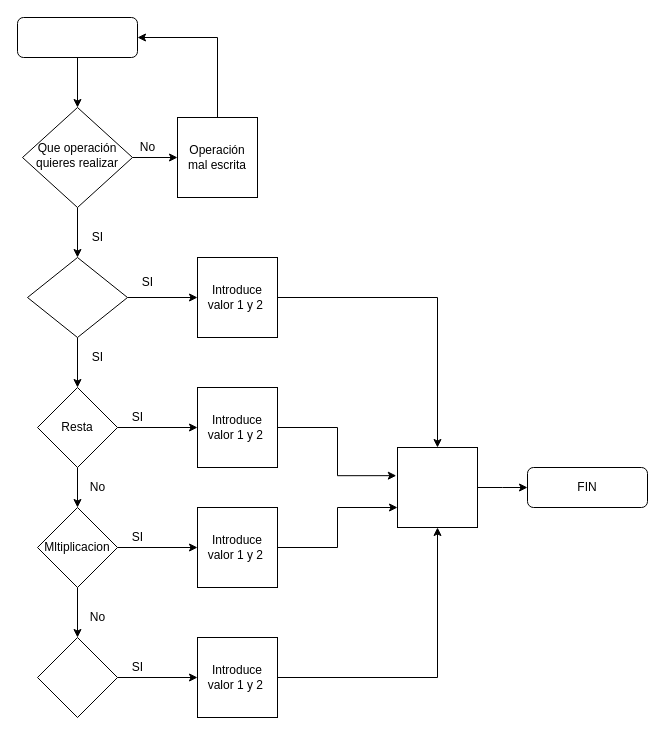
The diagram is 665 pixels wide and 735 high, and some of its shapes have lost their labels. Here are the shapes that lost their labels. From the top down, the centre of each, then its label:
At [77,37]: "INICIO".
At [77,297]: "Suma".
At [437,487]: "Resultado de la operación".
At [77,677]: "División".
